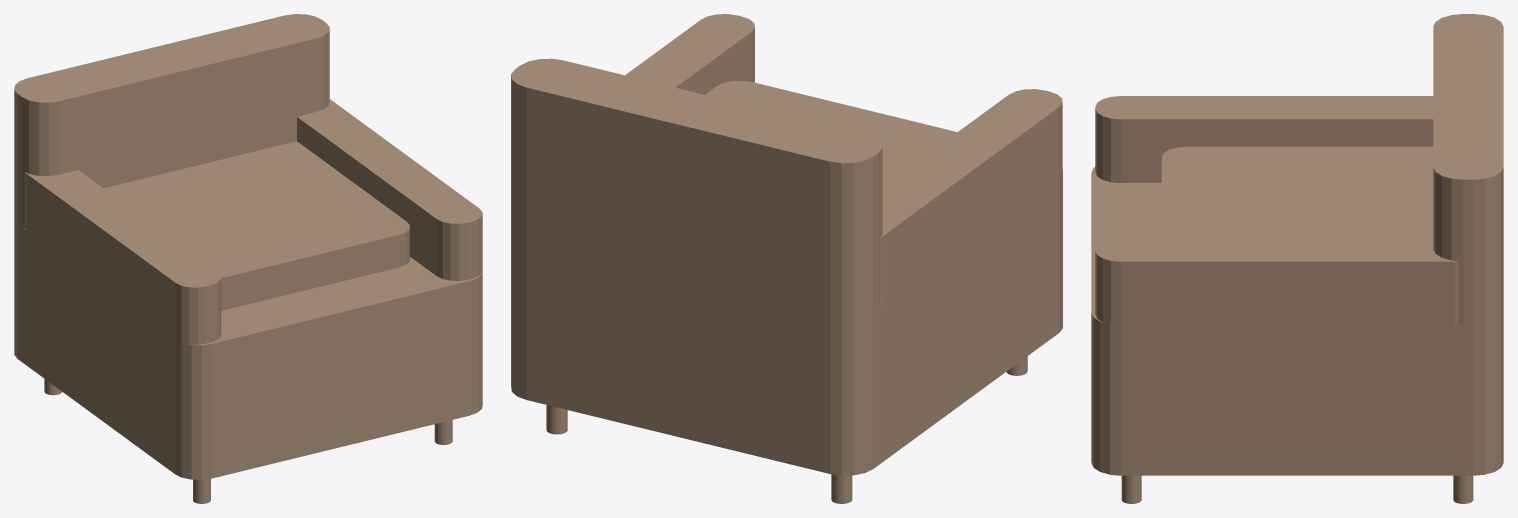
File: tate-armchair-walnut.glb
3 renders of one model, left to right at view 1: azimuth 30°, elevation 25°; view 2: azimuth 150°, elevation 25°; view 3: azimuth 270°, elevation 25°, orthographic. The views are drawn at different scales.
Visible parts, largest first — view 1: geometry_0; view 2: geometry_0; view 3: geometry_0.
Part boxes in pixels (x1,y1,x2,y2): geometry_0: (14,14,482,503); geometry_0: (511,14,1062,503); geometry_0: (1091,14,1503,503).
Size of the model in its own units: 0.78 by 0.74 by 0.82.
